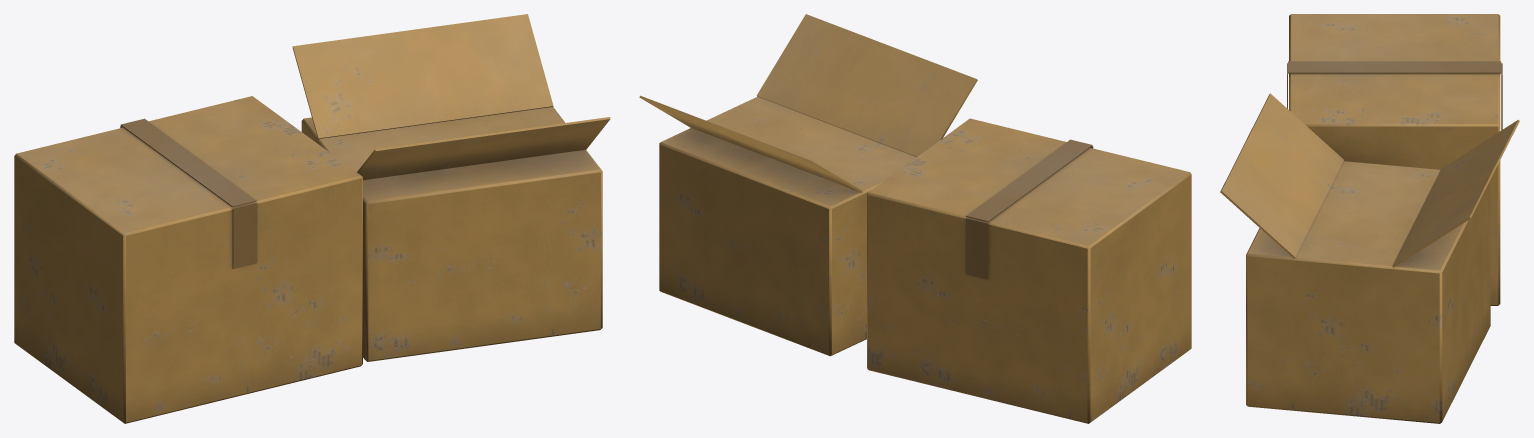
The model's file is boxes_pair.glb.
The picture shows the model from 3 angles, left to right: view 1: azimuth 30°, elevation 25°; view 2: azimuth 150°, elevation 25°; view 3: azimuth 270°, elevation 25°; orthographic projection. The views are drawn at different scales.
Parts seen in each view (by area): view 1: boxes_pair; view 2: boxes_pair; view 3: boxes_pair.
Boxes of the visible parts, x1,y1,x2,y2 form: boxes_pair: (14, 14, 610, 423); boxes_pair: (639, 14, 1191, 423); boxes_pair: (1220, 14, 1519, 423).
Bounding box in the file's own units: 1.04 × 0.4467 × 0.5673.
1 material, 1 textured.
